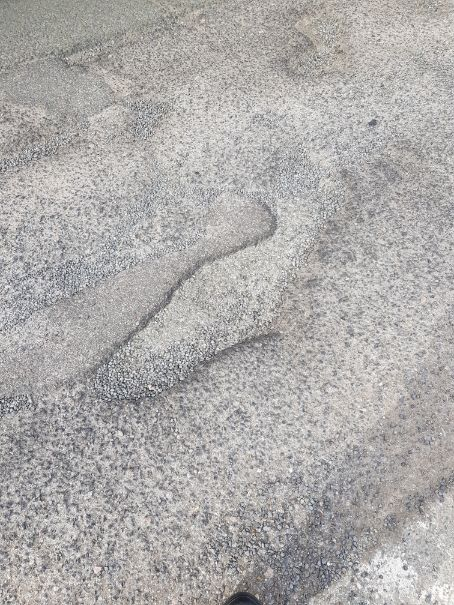pothole: (74, 192, 326, 407)
